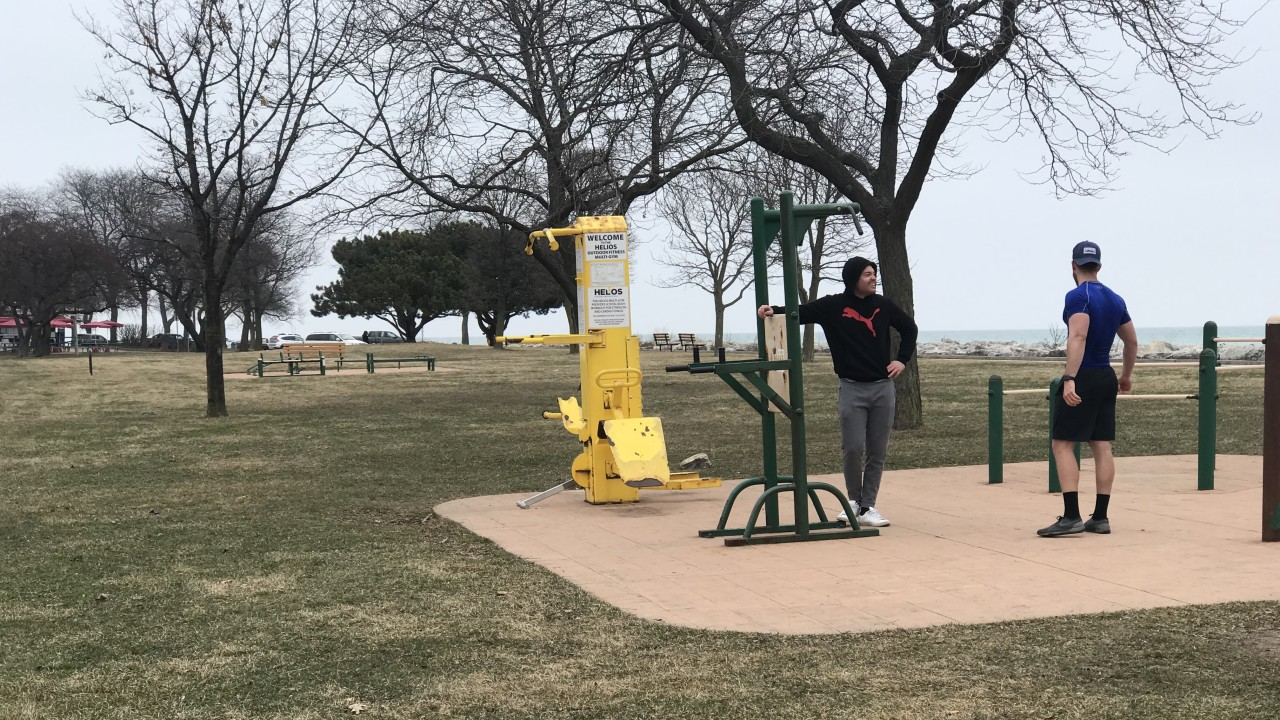Good: (814, 237, 1138, 546)
